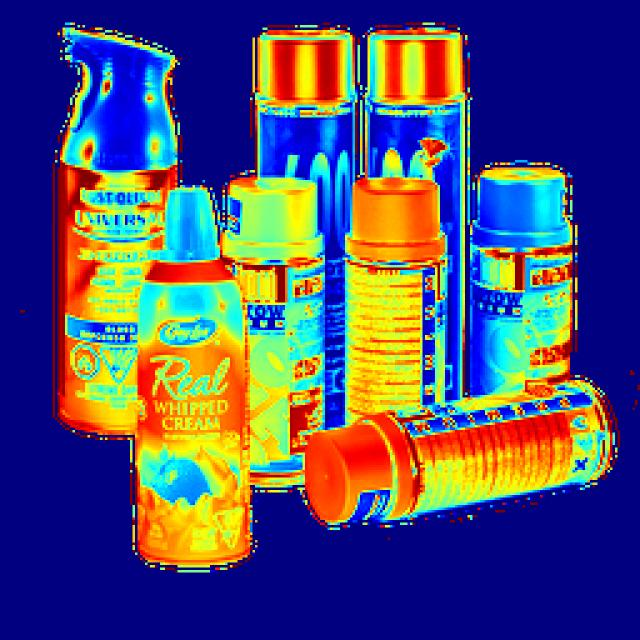Aerosol Cans: (46, 22, 185, 444), (304, 412, 606, 528)
